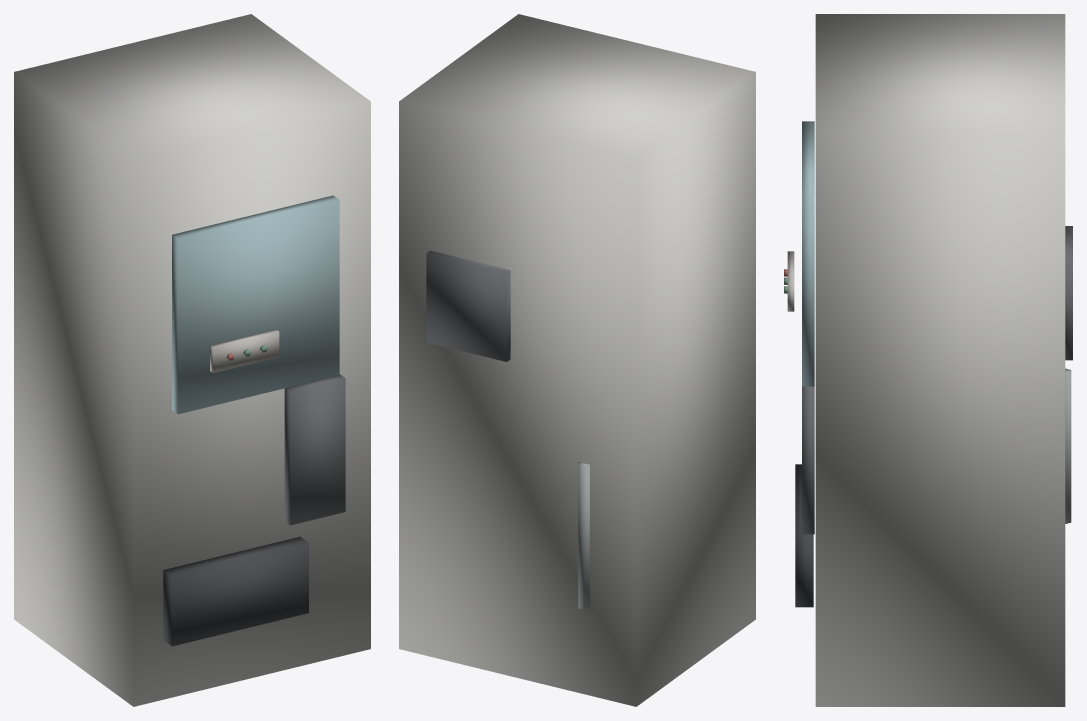
File: snack_vending_machine__service.glb
3 views of the same model, side by side, from view 1: azimuth 30°, elevation 25°; view 2: azimuth 150°, elevation 25°; view 3: azimuth 270°, elevation 25° (orthographic). The views are drawn at different scales.
Visible parts, largest first — view 1: world; view 2: world; view 3: world.
Boxes of the visible parts, left/top/right/bottom form: world: left=14, top=14, right=370, bottom=706; world: left=399, top=14, right=755, bottom=706; world: left=784, top=14, right=1072, bottom=706.
Bounding box in the file's own units: 0.78 × 1.72 × 0.7871.
